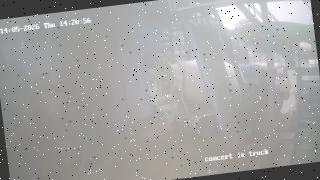cement_mixer_truck: (146, 41, 296, 148)
